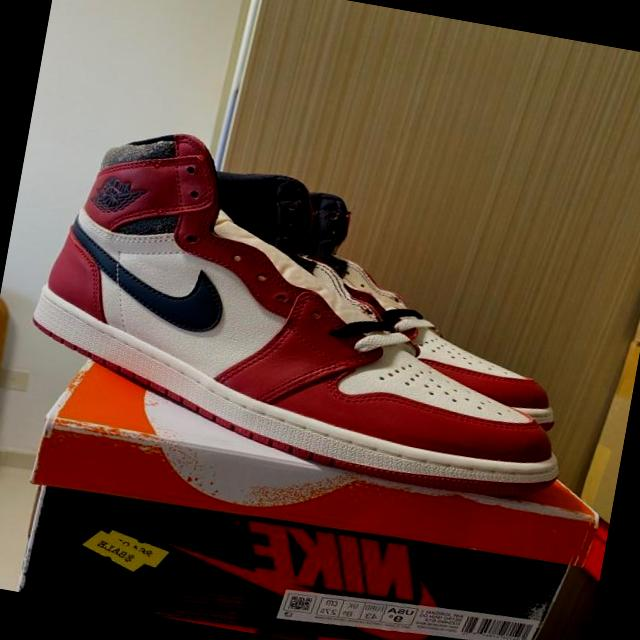nike_original_jordan: (16, 116, 604, 510), (257, 190, 592, 431)
